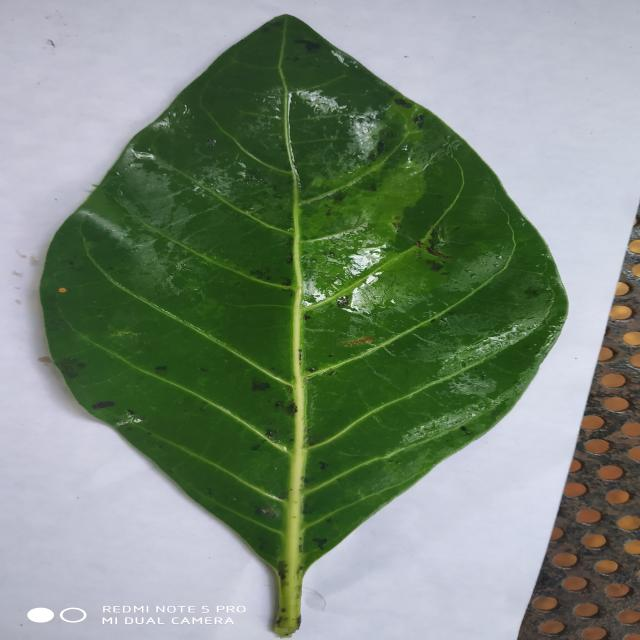anthracnosenooni: (40, 15, 567, 638)
